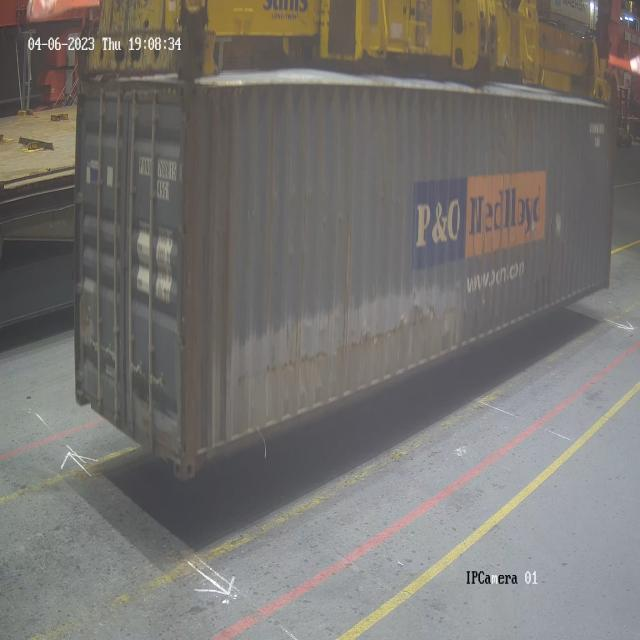dent: (222, 297, 455, 411)
